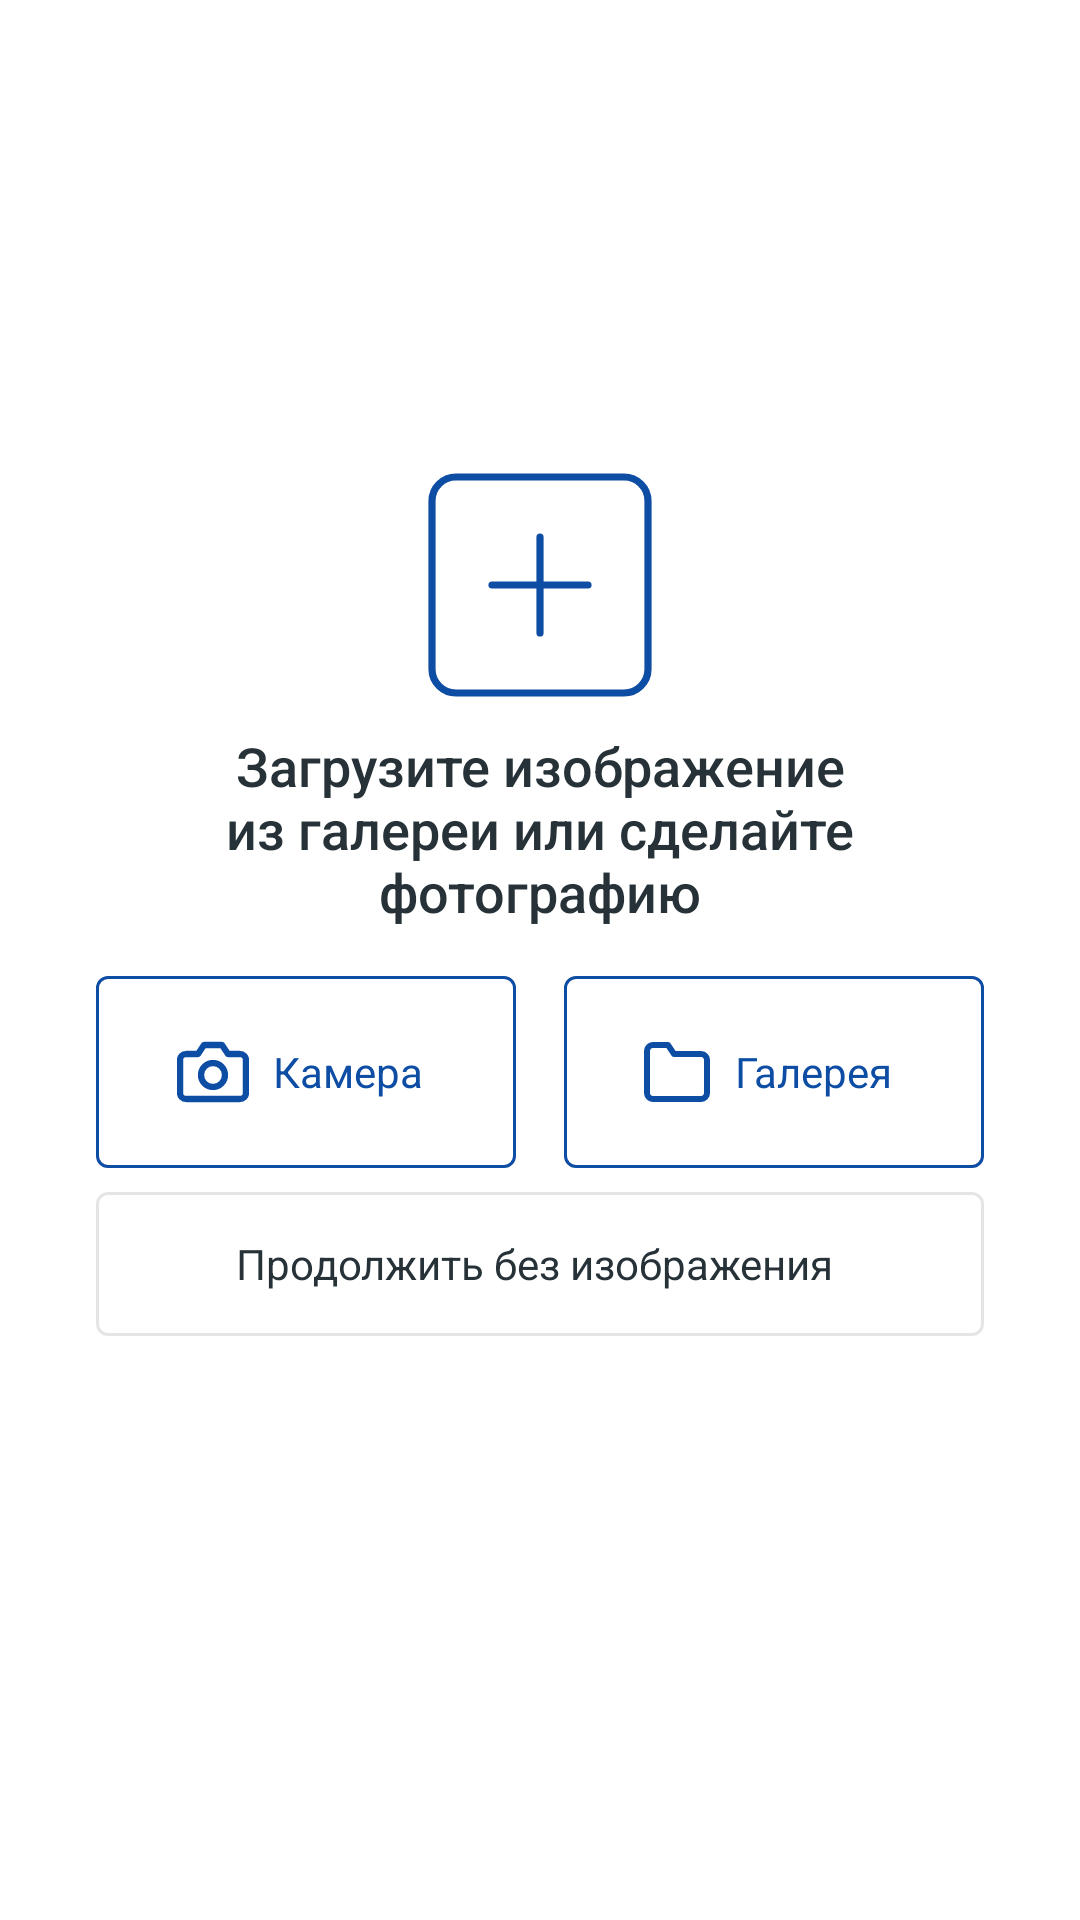

Screen size 1080px x 1920px. Icon name, then its box in pixels as (x1, y1, x2, y2):
Добавьте изображение: (428, 473, 652, 697)
